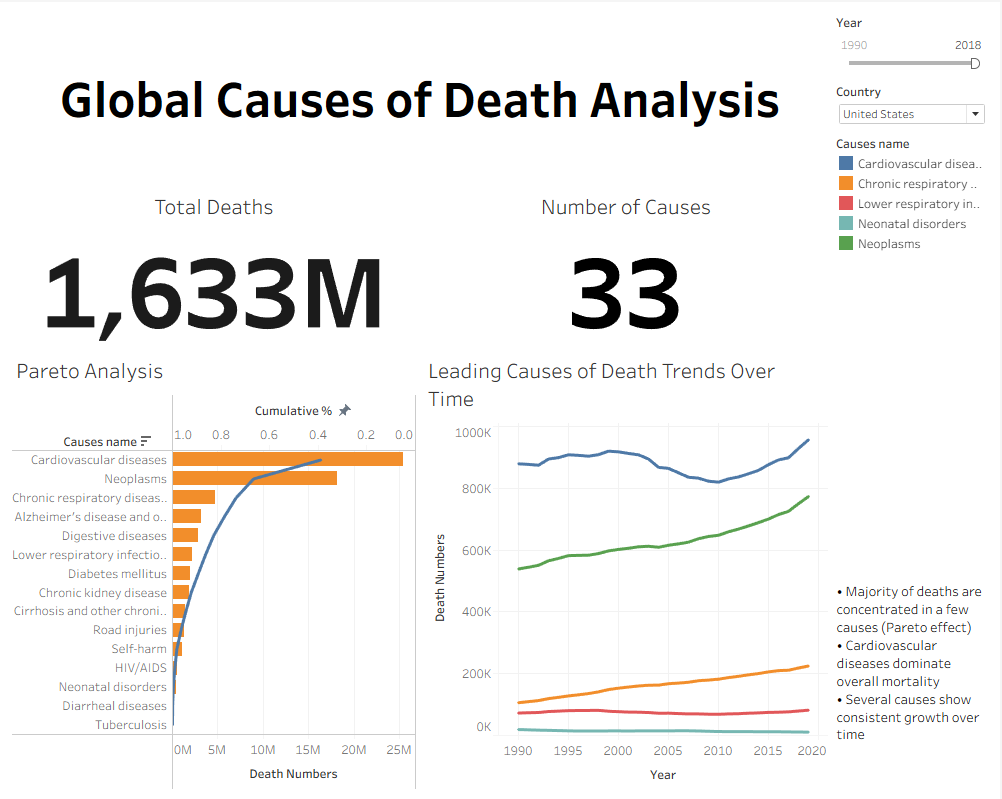

The page's visual inventory and layout, read from the dashboard file:
{"tool":"tableau","page":{"name":"Dashboard 1","canvas":[1000,800],"ordinal":0},"visuals":[{"type":"text","box":[8,8,824,174]},{"type":"filter","title":"Pareto Analysis","param":"[federated.0p7pdhe06jlqzl18whnev00y8alt].[none:Year:qk]","box":[832,8,160,69]},{"type":"filter","title":"Pareto Analysis","param":"[federated.0p7pdhe06jlqzl18whnev00y8alt].[none:Entity:nk]","box":[832,77,160,52]},{"type":"legend","title":"Death Trends Over Time","param":"[federated.0p7pdhe06jlqzl18whnev00y8alt].[none:Causes name:nk]","box":[832,129,160,126]},{"type":"worksheet","title":"KPI - Total Deaths","mark":"Automatic","box":[8,182,412,164]},{"type":"worksheet","title":"KPI - Number of Causes","mark":"Automatic","box":[420,182,412,164]},{"type":"worksheet","title":"Pareto Analysis","mark":"Bar","rows":["Causes name"],"cols":["Death Numbers","Calculation_0514351736512513"],"box":[8,346,412,446]},{"type":"worksheet","title":"Death Trends Over Time","mark":"Automatic","rows":["Death Numbers"],"cols":["Year"],"box":[420,346,412,446]},{"type":"text","box":[834,573,150,176]}]}

Visuals, with their boxes in screenshot pixels (x1, y1, x2, y2), scaled from the page's 1000x800 canvas onto the 1002x799 screenshot:
text: l=8, t=8, r=834, b=182
"Pareto Analysis" filter: l=834, t=8, r=994, b=77
"Pareto Analysis" filter: l=834, t=77, r=994, b=129
"Death Trends Over Time" legend: l=834, t=129, r=994, b=255
"KPI - Total Deaths" worksheet: l=8, t=182, r=421, b=346
"KPI - Number of Causes" worksheet: l=421, t=182, r=834, b=346
"Pareto Analysis" worksheet (Bar marks): l=8, t=346, r=421, b=791
"Death Trends Over Time" worksheet: l=421, t=346, r=834, b=791
text: l=836, t=572, r=986, b=748
